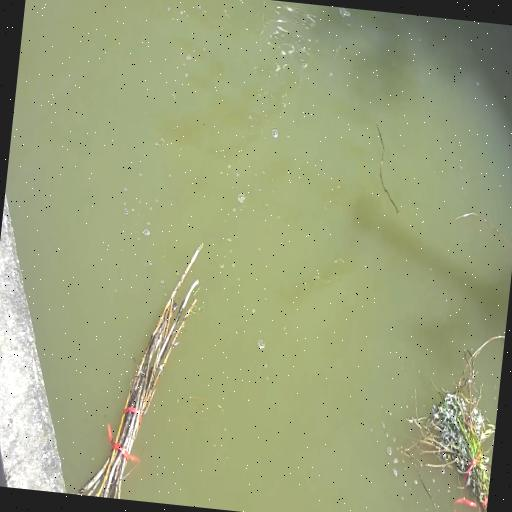twig: (86, 238, 206, 505), (407, 318, 505, 512)
